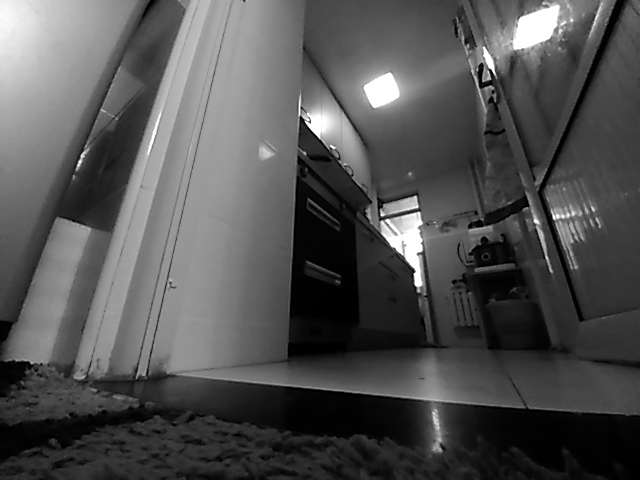carpet: (1, 357, 613, 480)
